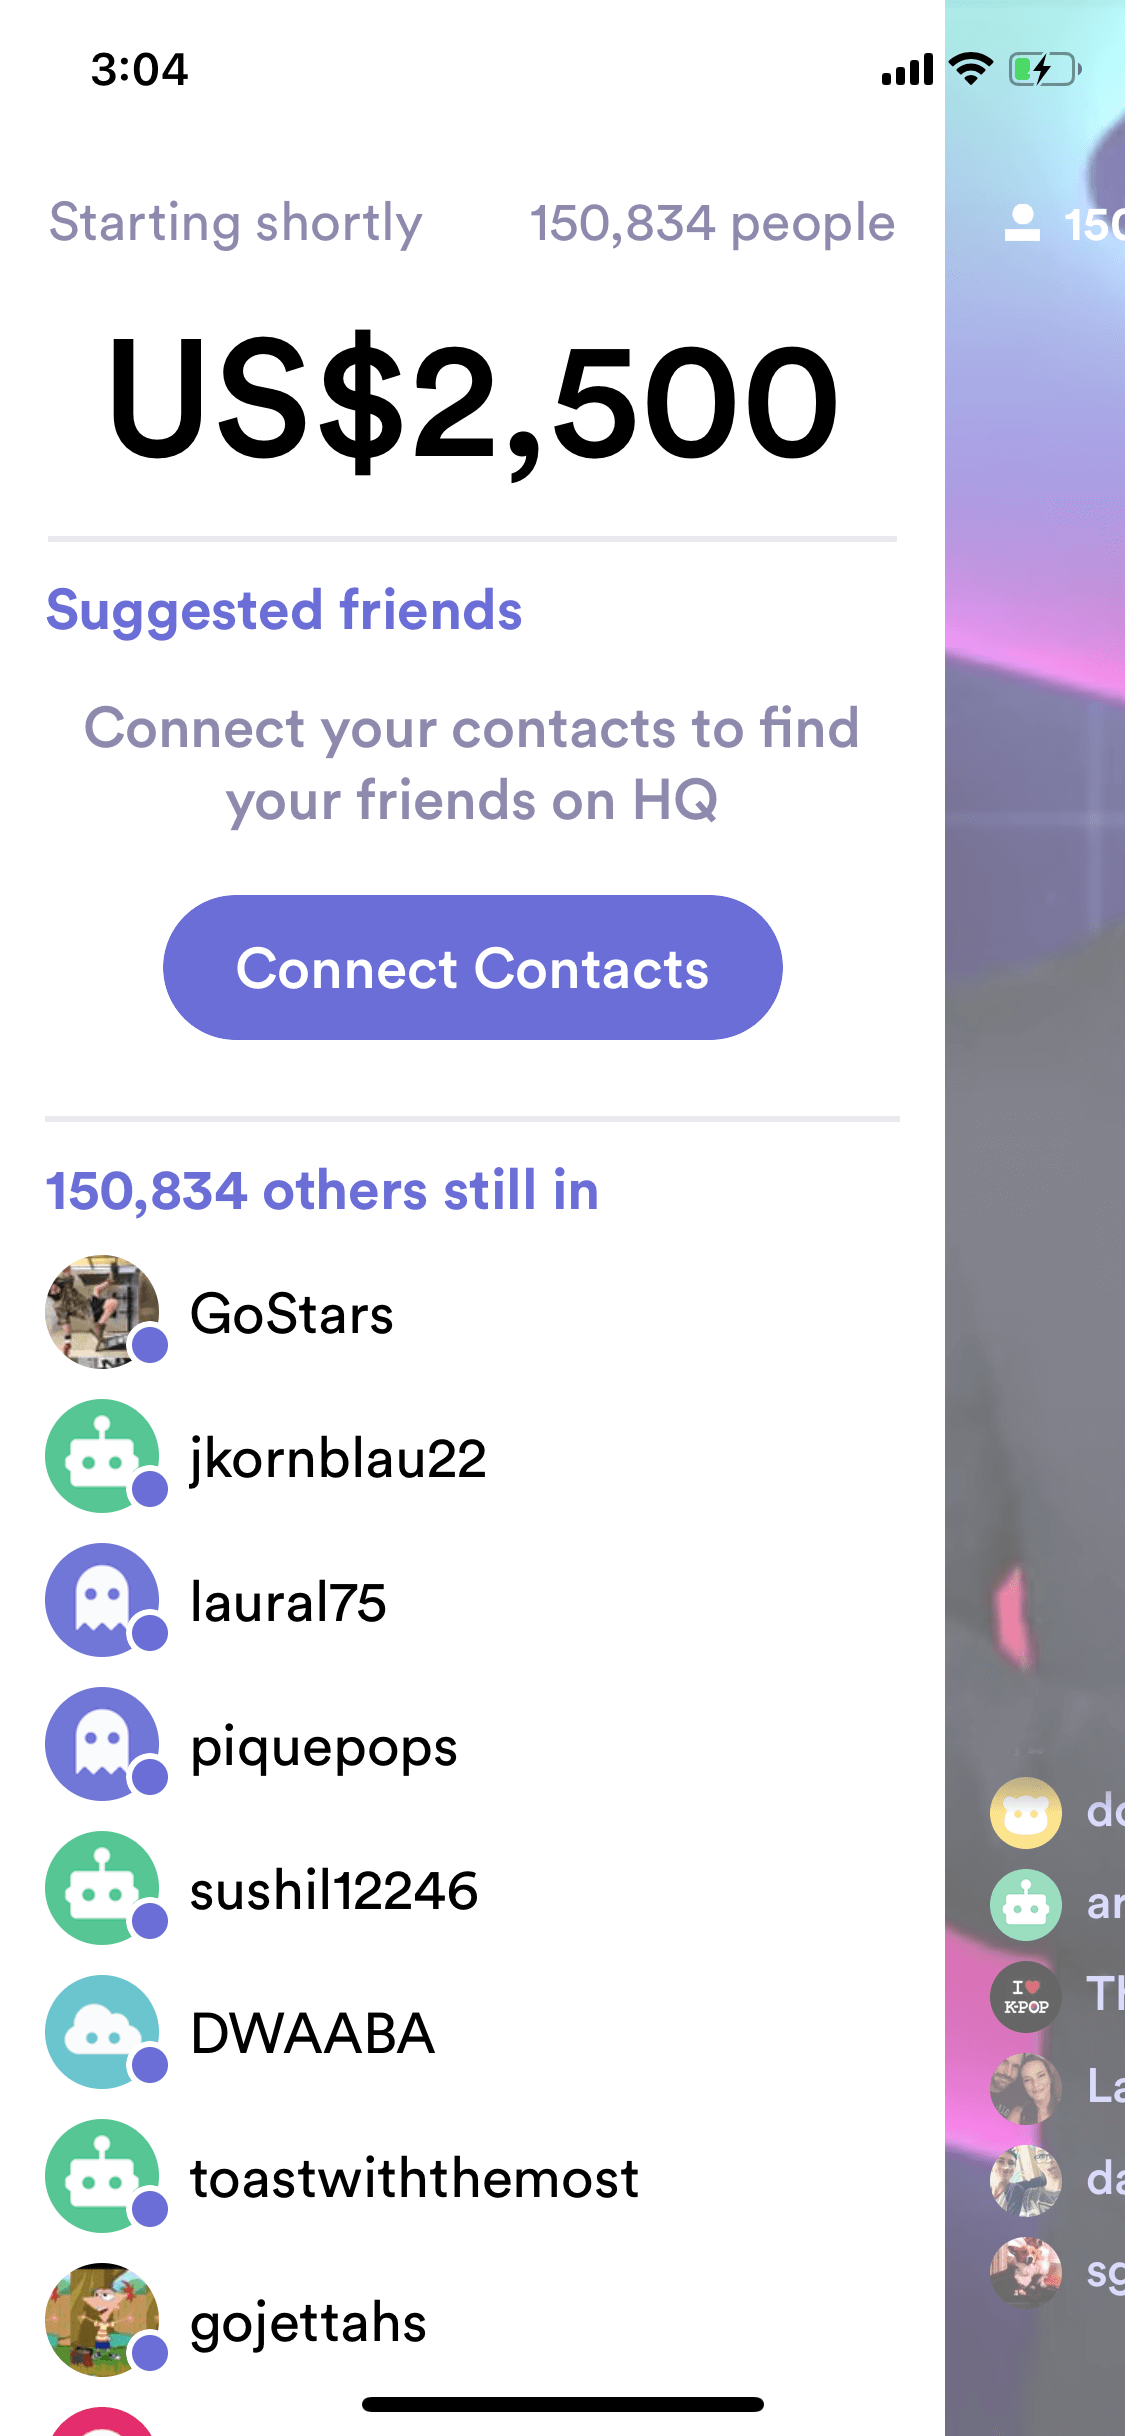Buttons: (157, 882, 796, 1053)
